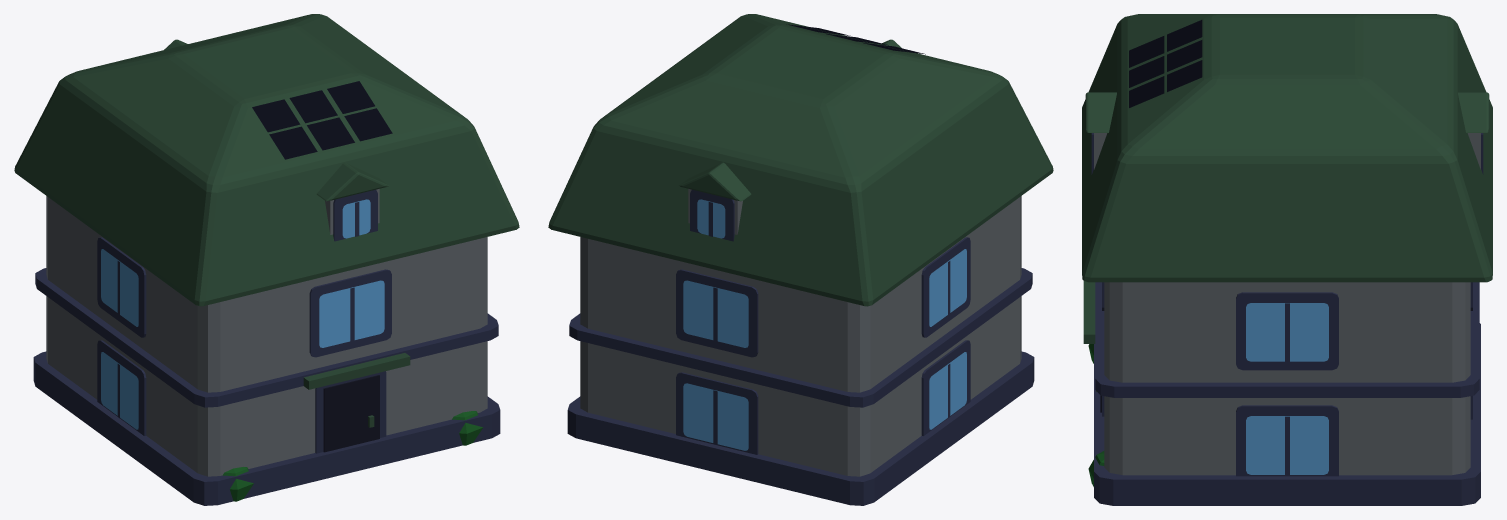
The model's file is house-1x1-2f-mansard-d-solar.glb.
The picture shows the model from 3 angles, left to right: view 1: azimuth 30°, elevation 25°; view 2: azimuth 150°, elevation 25°; view 3: azimuth 270°, elevation 25°; orthographic projection. The views are drawn at different scales.
Visible parts, largest first — view 1: house-1x1-2f-mansard-d-solar; view 2: house-1x1-2f-mansard-d-solar; view 3: house-1x1-2f-mansard-d-solar.
Part boxes in pixels (box(x1,y1,x2,y2)): house-1x1-2f-mansard-d-solar: box(14, 14, 519, 505); house-1x1-2f-mansard-d-solar: box(548, 14, 1053, 505); house-1x1-2f-mansard-d-solar: box(1082, 14, 1492, 505).
Bounding box in the file's own units: 0.9876 × 1 × 0.9876.
1 material, 1 textured.
